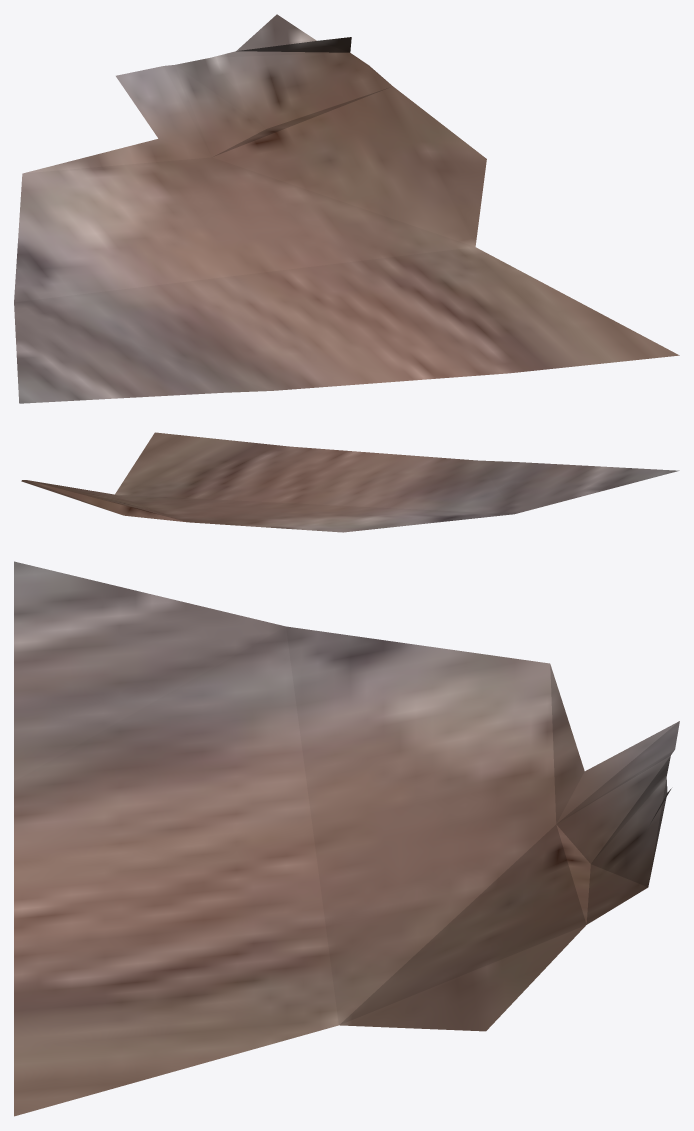
3 renders of one model, top to bottom at view 1: azimuth 30°, elevation 25°; view 2: azimuth 150°, elevation 25°; view 3: azimuth 270°, elevation 25°, orthographic. The views are drawn at different scales.
Bounding box in the file's own units: 4.68 × 1.27 × 3.2.
Materials: 1 (1 with a texture image).
